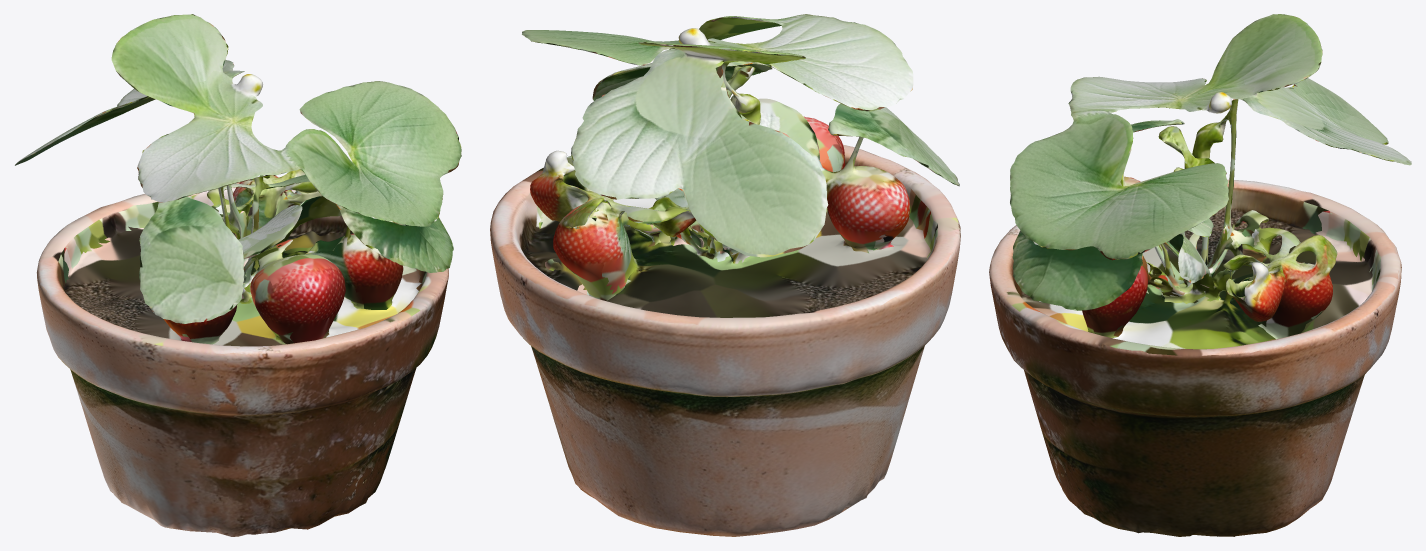
Rendered from strawberry_plant.glb.
3 views of the same model, side by side, from view 1: azimuth 30°, elevation 25°; view 2: azimuth 150°, elevation 25°; view 3: azimuth 270°, elevation 25° (orthographic). The views are drawn at different scales.
Parts seen in each view (by area): view 1: Strawberry Plant_0; view 2: Strawberry Plant_0; view 3: Strawberry Plant_0.
Boxes of the visible parts, left/top/right/bottom form: Strawberry Plant_0: left=15, top=14, right=461, bottom=536; Strawberry Plant_0: left=490, top=14, right=960, bottom=536; Strawberry Plant_0: left=989, top=14, right=1411, bottom=536.
Bounding box in the file's own units: 0.2235 × 0.25 × 0.2197.
Materials: 1 (1 with a texture image).
